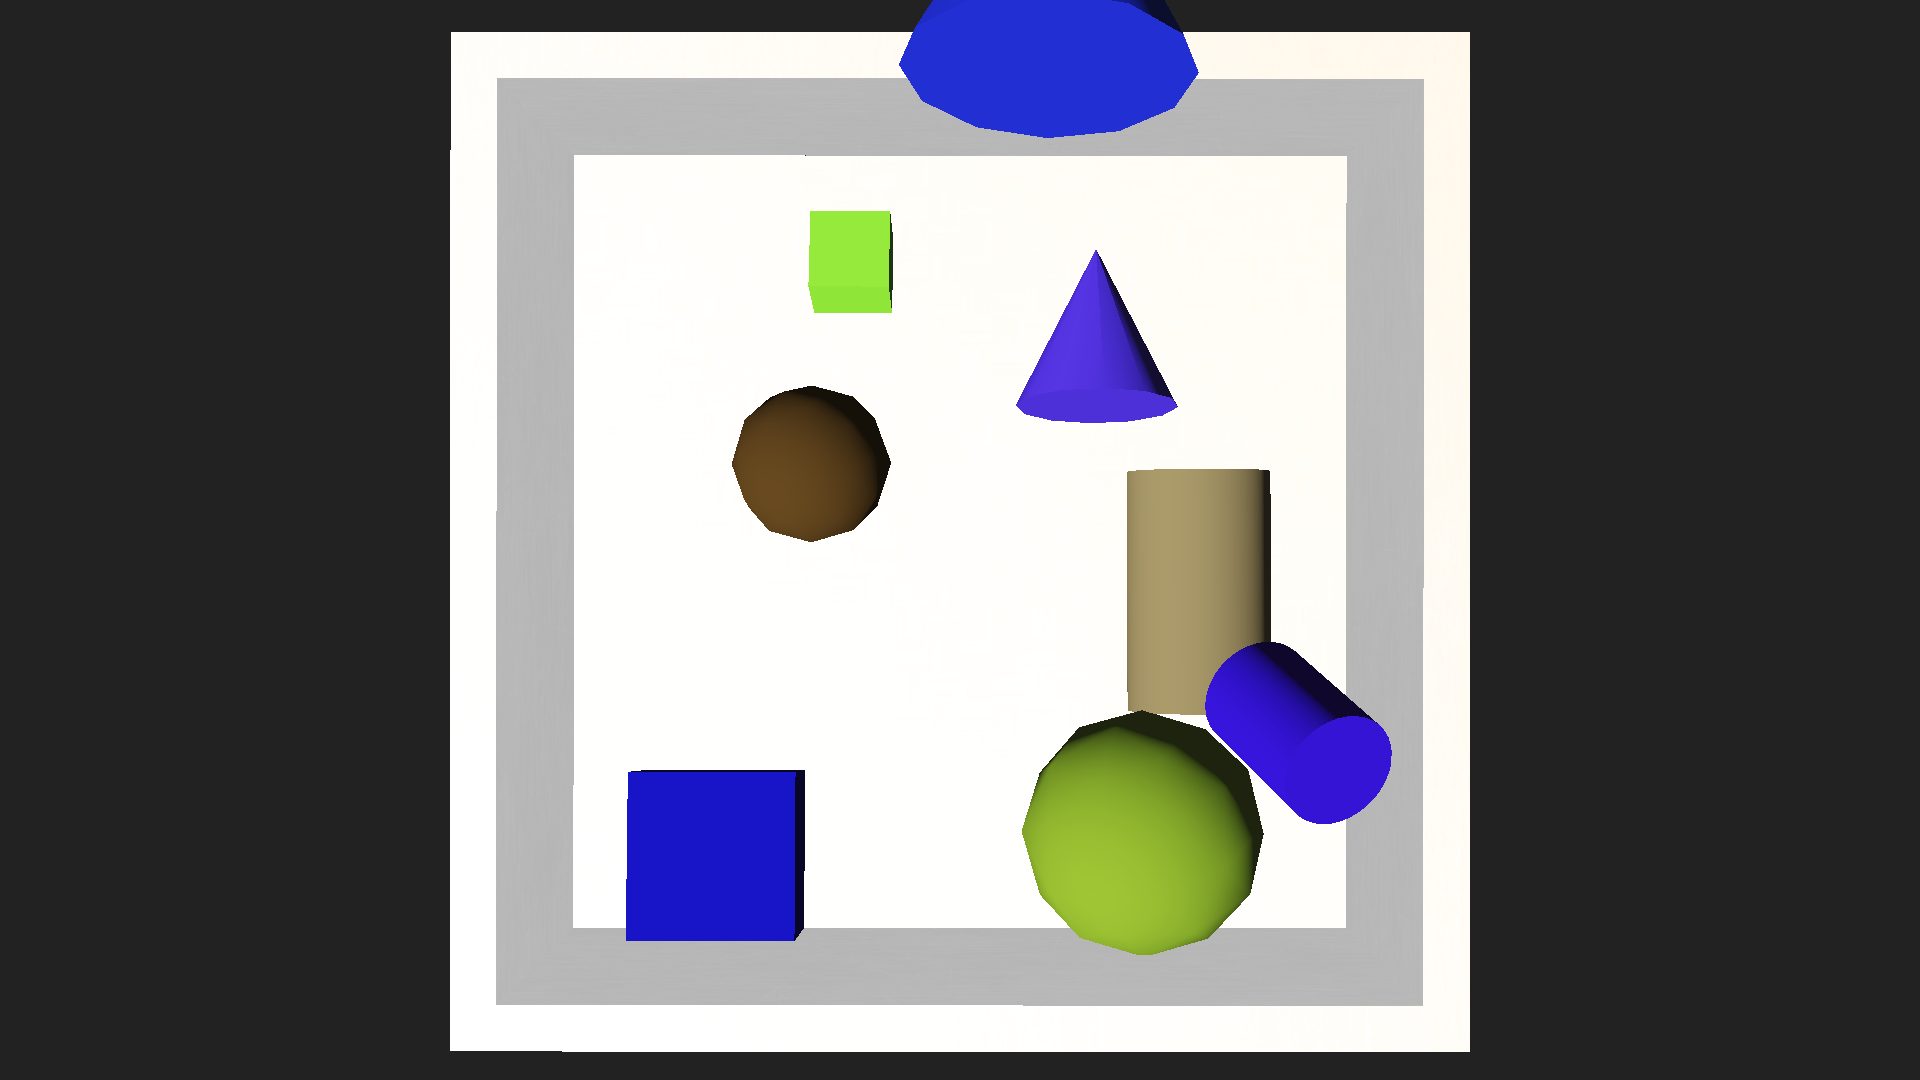3: (624, 756, 807, 955), (807, 207, 893, 314)
cone: (1121, 468, 1279, 716), (1200, 638, 1400, 829)
cylinder: (889, 0, 1233, 153), (1018, 223, 1179, 423)
sphere: (1021, 709, 1266, 955), (732, 384, 890, 542)
